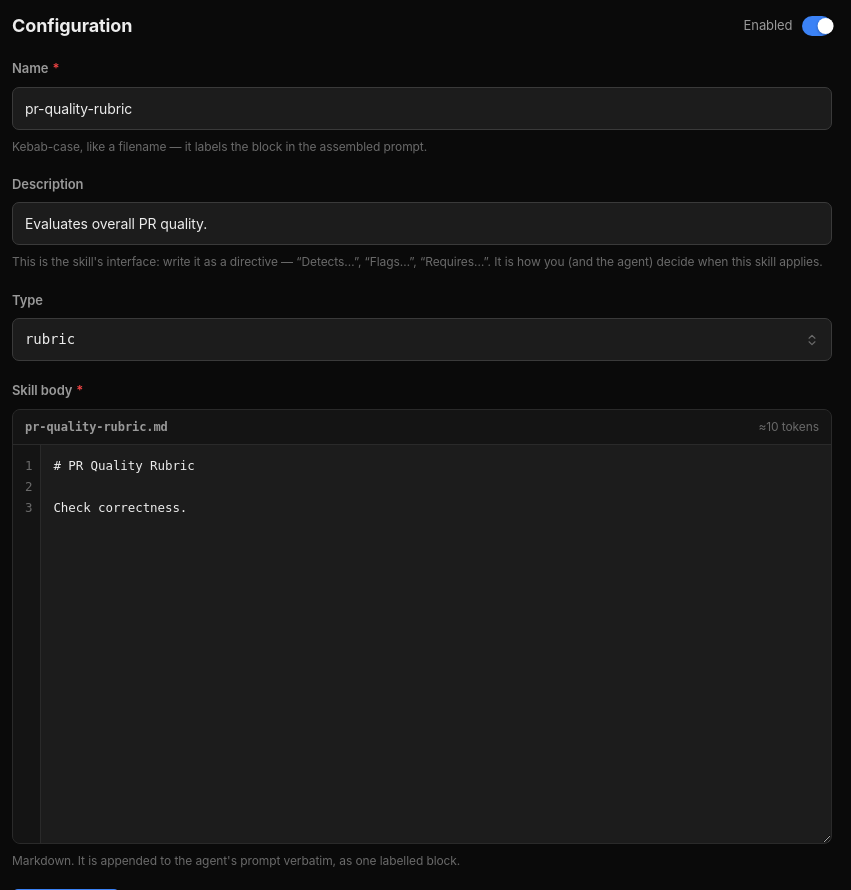
it: skill ConfigTab › marks the body unsaved only after it is edited
The width and height of the screenshot is (851, 890).
Check: the text "unsaved" is not shown
Replace the text in the text box named "pr-quality-rubric.md" with "# Changed" at (436,644), box [41,445,831,843]
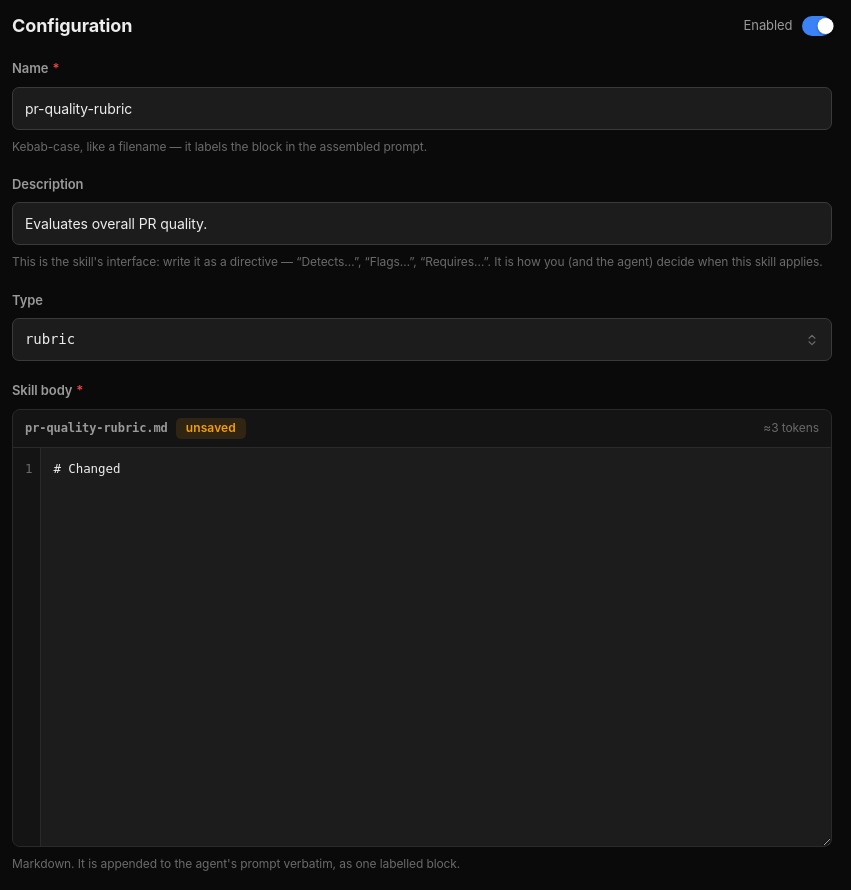
Check: the text "unsaved" is shown, box [176,418,246,439]
